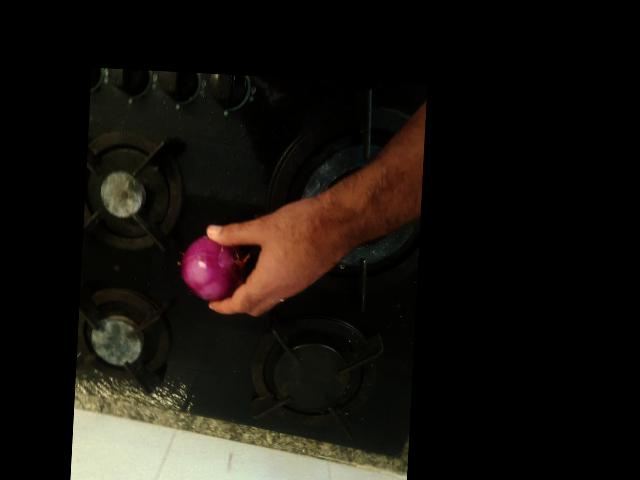onion: (118, 354, 194, 420)
